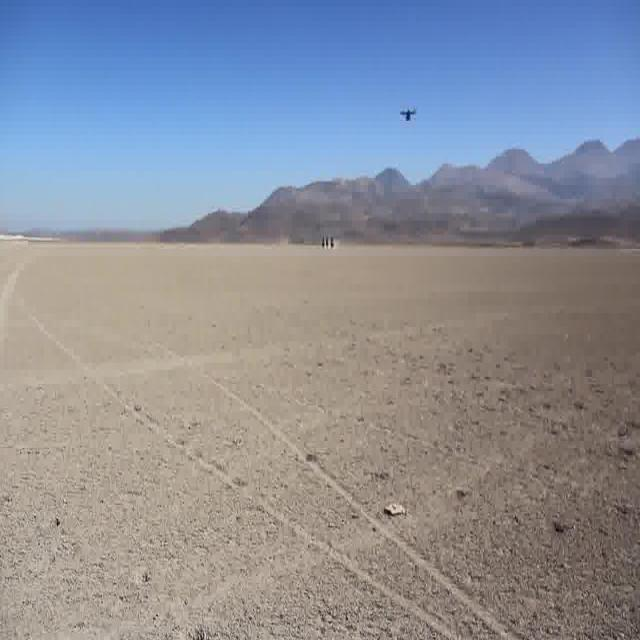drone: (398, 102, 418, 125)
